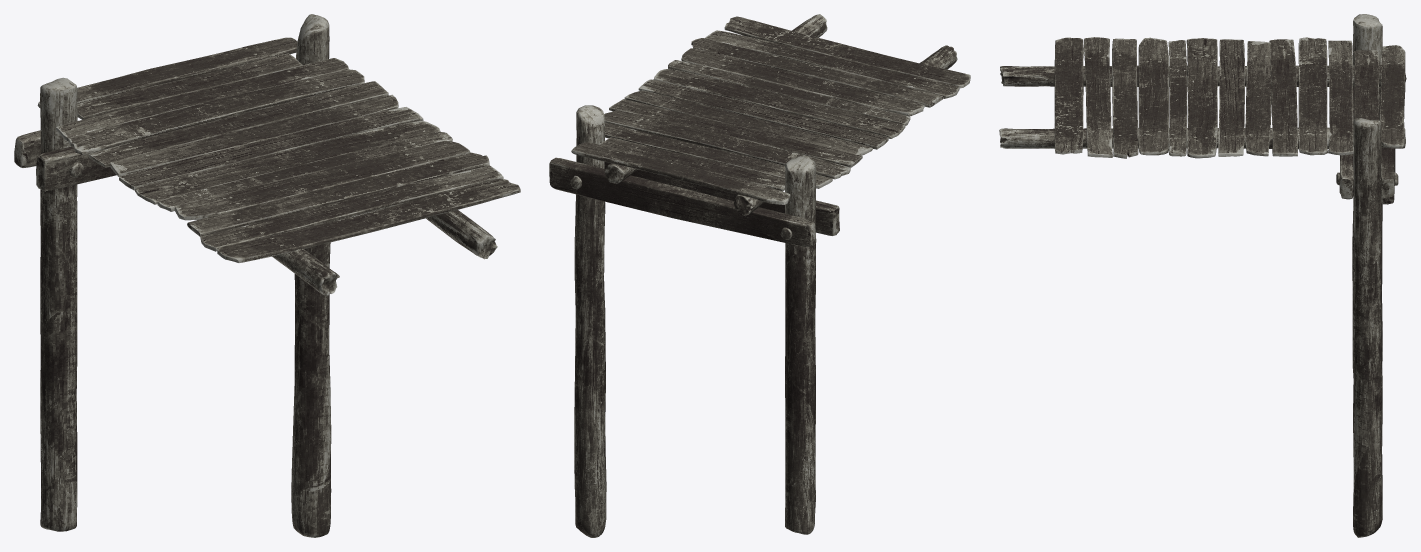
Rendered from wooden_pier_section_02.glb.
3 views of the same model, side by side, from view 1: azimuth 30°, elevation 25°; view 2: azimuth 150°, elevation 25°; view 3: azimuth 270°, elevation 25° (orthographic). The views are drawn at different scales.
Visible parts, largest first — view 1: body; view 2: body; view 3: body.
Part boxes in pixels (x1=…): body: x1=14, y1=14, x2=520, y2=537; body: x1=549, y1=14, x2=970, y2=537; body: x1=999, y1=14, x2=1406, y2=537.
Size of the model in its own units: 2.51 by 3.84 by 3.39.
Materials: 1 (1 with a texture image).
